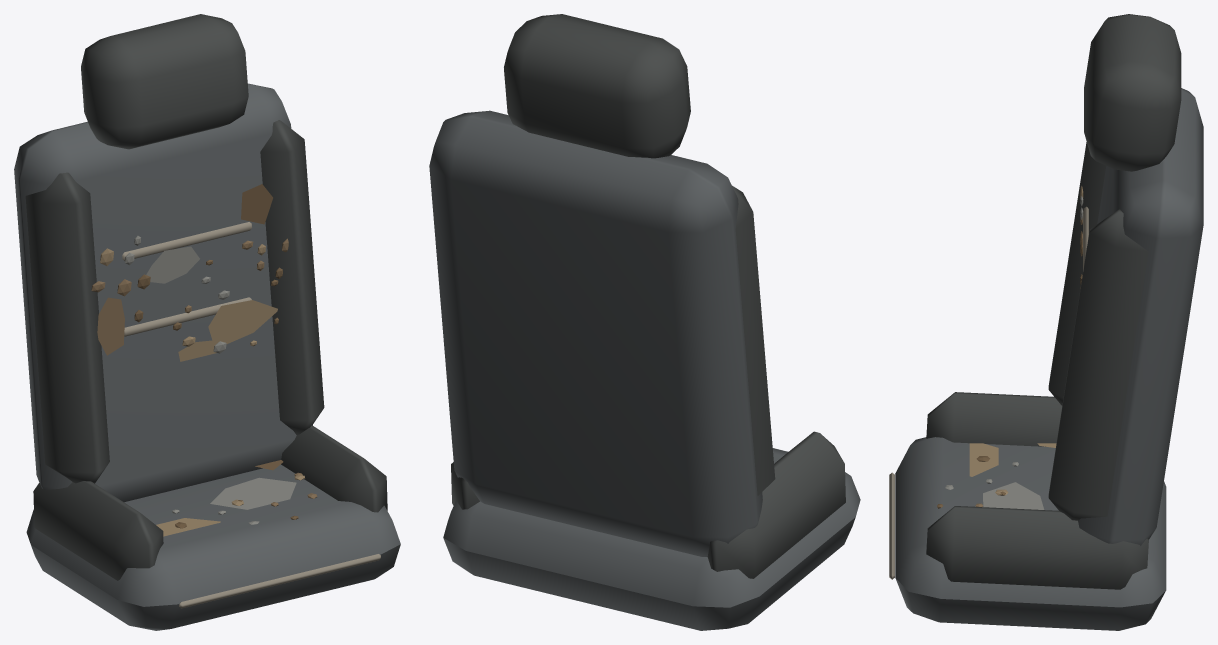
Rendered from dirty_low_poly_car_seat.fbx.
The picture shows the model from 3 angles, left to right: view 1: azimuth 30°, elevation 25°; view 2: azimuth 150°, elevation 25°; view 3: azimuth 270°, elevation 25°; orthographic projection. The views are drawn at different scales.
Visible parts, largest first — view 1: Padded backrest, Seat cushion, Backrest side bolster, Chunky headrest, Backrest side bolster.001, Seat side bolster, Seat side bolster.001, Backrest mud stain 2, Cushion mud stain 2, Front cushion seam, Backrest mud stain 5, Backrest mud stain 3 (+4 smaller); view 2: Padded backrest, Seat cushion, Chunky headrest, Seat side bolster, Backrest side bolster, Seat side bolster.001; view 3: Padded backrest, Seat cushion, Backrest side bolster.001, Seat side bolster.001, Chunky headrest, Seat side bolster, Backrest side bolster, Cushion mud stain 2, Cushion mud stain 1, Front cushion seam.
Boxes of the visible parts, x1,y1,x2,y2 form: Padded backrest: [14, 83, 312, 502]; Seat cushion: [26, 464, 400, 630]; Backrest side bolster: [25, 172, 109, 483]; Chunky headrest: [81, 14, 248, 149]; Backrest side bolster.001: [260, 120, 324, 434]; Seat side bolster: [33, 481, 163, 580]; Seat side bolster.001: [281, 425, 387, 512]; Backrest mud stain 2: [208, 300, 277, 345]; Cushion mud stain 2: [210, 477, 296, 509]; Front cushion seam: [179, 554, 380, 608]; Backrest mud stain 5: [97, 297, 124, 355]; Backrest mud stain 3: [146, 246, 199, 283]; Padded backrest: [429, 110, 762, 556]; Seat cushion: [443, 448, 860, 630]; Chunky headrest: [504, 14, 690, 158]; Seat side bolster: [707, 431, 845, 578]; Backrest side bolster: [732, 185, 775, 495]; Seat side bolster.001: [451, 462, 479, 509]; Padded backrest: [1078, 88, 1203, 545]; Seat cushion: [895, 437, 1166, 630]; Backrest side bolster.001: [1048, 209, 1148, 520]; Seat side bolster.001: [926, 506, 1148, 589]; Chunky headrest: [1084, 14, 1181, 171]; Seat side bolster: [926, 392, 1062, 446]; Backrest side bolster: [1048, 142, 1106, 405]; Cushion mud stain 2: [983, 482, 1044, 509]; Cushion mud stain 1: [969, 443, 998, 476]; Front cushion seam: [889, 472, 894, 579].
Size of the model in its own units: 155 by 274 by 145.
